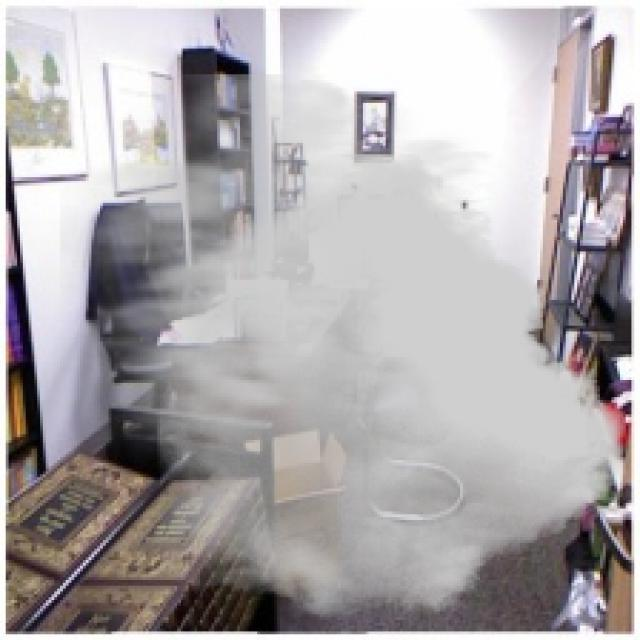smoke: (60, 74, 626, 620)
